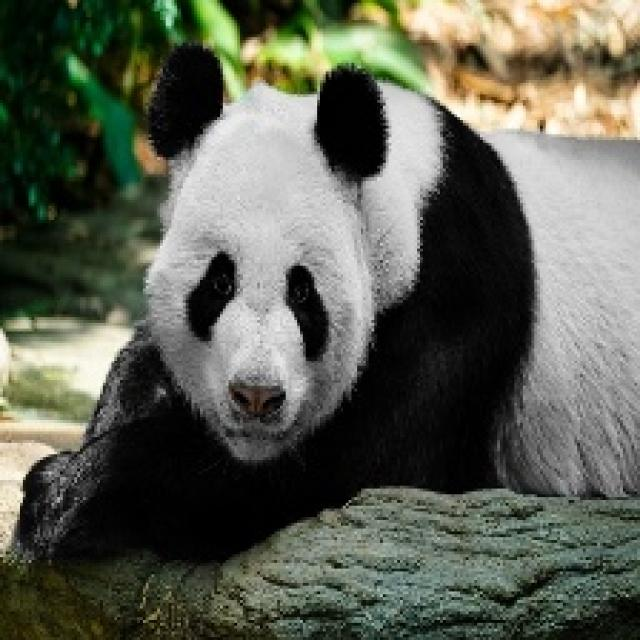bear: (110, 59, 600, 531)
